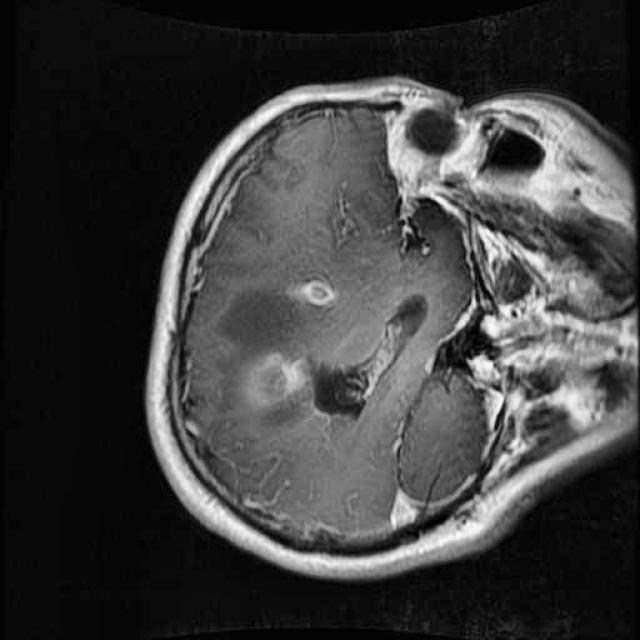Non-Tumor: (224, 260, 349, 435)
